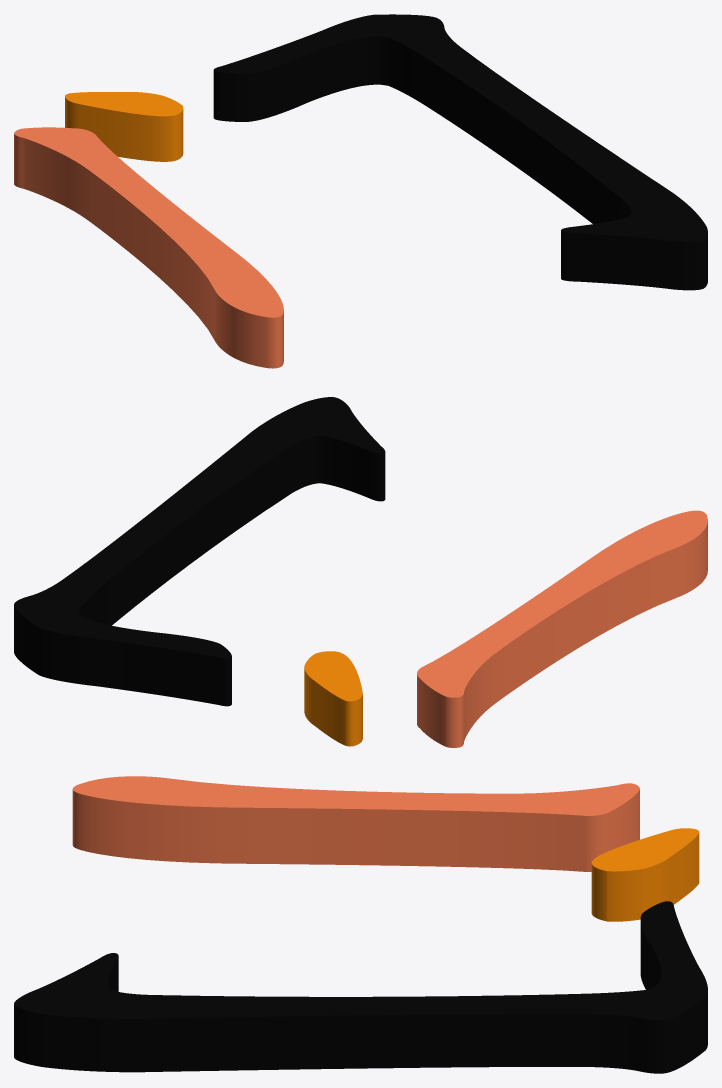
The model's file is hanzi244.fbx.
3 renders of one model, top to bottom at view 1: azimuth 30°, elevation 25°; view 2: azimuth 150°, elevation 25°; view 3: azimuth 270°, elevation 25°, orthographic. The views are drawn at different scales.
Parts seen in each view (by area): view 1: Curve.002, Curve.001, Curve; view 2: Curve.002, Curve.001, Curve; view 3: Curve.002, Curve.001, Curve.
Boxes of the visible parts, box(x1,y1,x2,y2) form: Curve.002: box(213, 14, 707, 290); Curve.001: box(14, 127, 283, 368); Curve: box(65, 92, 183, 161); Curve.002: box(14, 397, 385, 706); Curve.001: box(417, 510, 707, 747); Curve: box(304, 651, 362, 746); Curve.002: box(14, 901, 707, 1073); Curve.001: box(72, 776, 639, 871); Curve: box(591, 828, 699, 921).
Size of the model in its own units: 19.37 by 23.39 by 2.09.
